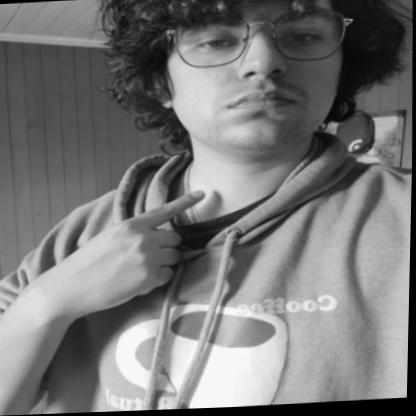Q: (47, 190, 212, 314)
